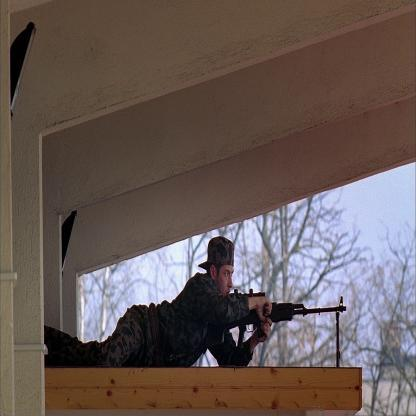gun: (237, 259, 349, 360)
